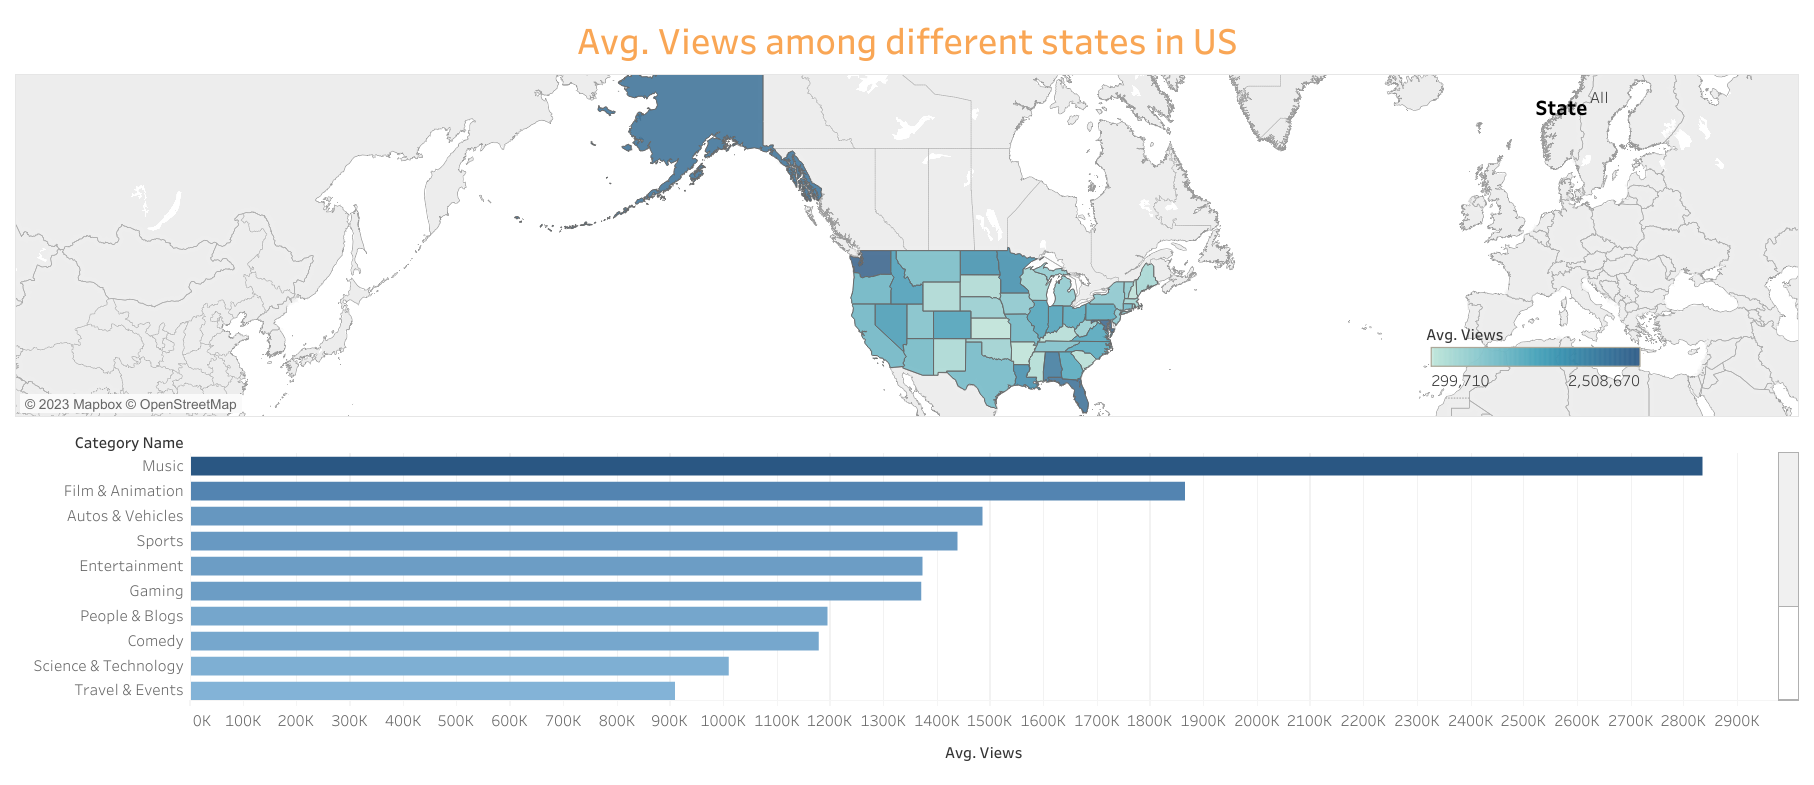

The dashboard page shown, as its layout file describes it:
{"tool":"tableau","page":{"name":"Dashboard 1","canvas":[1000,1000],"units":"permille","ordinal":0},"visuals":[{"type":"title","box":[6.9,13.5,986.1,79.4]},{"type":"worksheet","title":"Sheet 1","mark":"Multipolygon","box":[6.9,92.9,986.1,446.8]},{"type":"filter","title":"Sheet 1","param":"[federated.051hp230anhf0l1cbqy1d0yyniuo].[none:STATE:nk]","box":[825.1,108.1,160.2,55.7]},{"type":"legend","title":"Sheet 1","param":"[federated.051hp230anhf0l1cbqy1d0yyniuo].[avg:views:qk]","box":[786.1,403.7,121.2,128.4]},{"type":"worksheet","title":"Sheet 2","mark":"Automatic","rows":["Category Name"],"cols":["views"],"box":[6.9,539.7,986.1,446.8]}]}

Visuals, with their boxes on the dashboard's canvas, which has no fixed pixel size, in thousandths of its width and height (x1, y1, x2, y2). These are canvas units, not pixel positions in the 1814x785 screenshot, which may show the page scaled, cropped or inside an application window:
title: 7/14/993/93
"Sheet 1" worksheet (Multipolygon marks): 7/93/993/540
"Sheet 1" filter: 825/108/985/164
"Sheet 1" legend: 786/404/907/532
"Sheet 2" worksheet: 7/540/993/986
